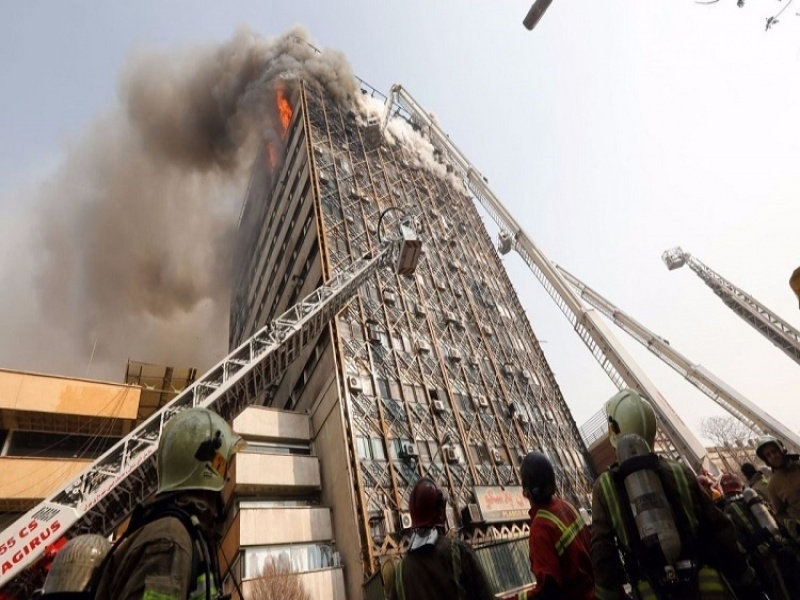smoke: (77, 54, 279, 284)
